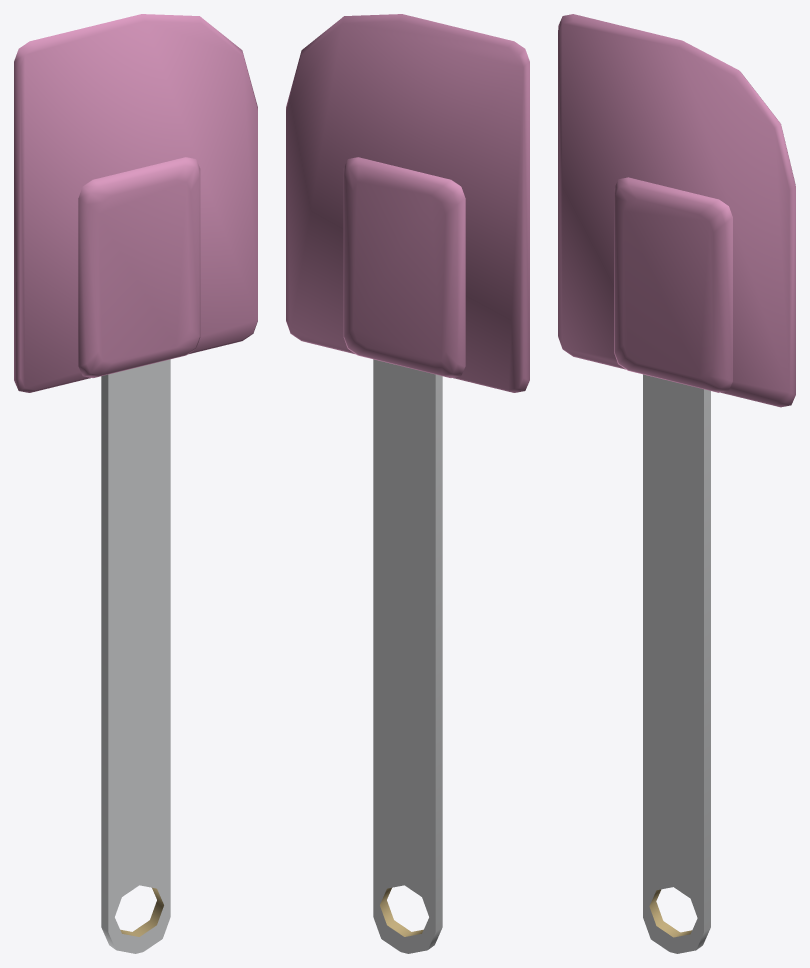
File: cutensils_rubber_spatula_w_hole_pink.glb
The picture shows the model from 3 angles, left to right: view 1: azimuth 30°, elevation 25°; view 2: azimuth 150°, elevation 25°; view 3: azimuth 330°, elevation 25°; orthographic projection. The views are drawn at different scales.
Visible parts, largest first — view 1: cutensils rubber spatula w/hole pink; view 2: cutensils rubber spatula w/hole pink; view 3: cutensils rubber spatula w/hole pink.
Boxes of the visible parts, x1,y1,x2,y2 form: cutensils rubber spatula w/hole pink: [14, 14, 257, 953]; cutensils rubber spatula w/hole pink: [286, 14, 529, 953]; cutensils rubber spatula w/hole pink: [558, 14, 795, 953].
Bounding box in the file's own units: 1.88 × 6.9 × 0.2312.
Materials: 1 (1 with a texture image).
